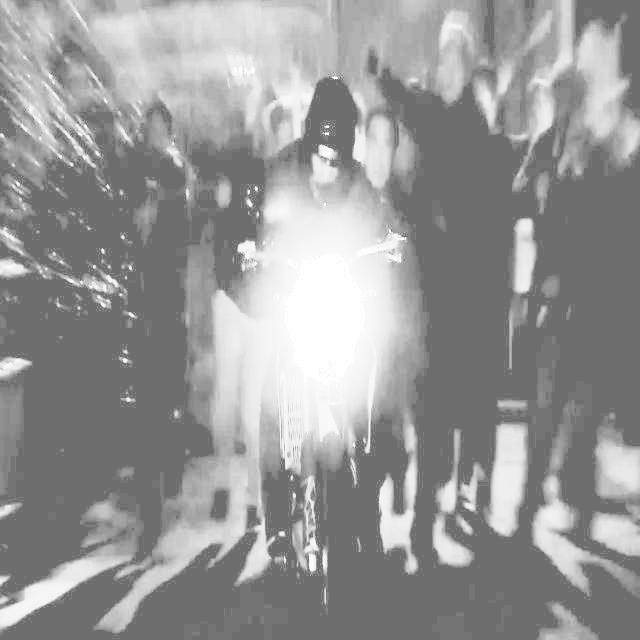Motorcycle: (247, 260, 409, 640)
